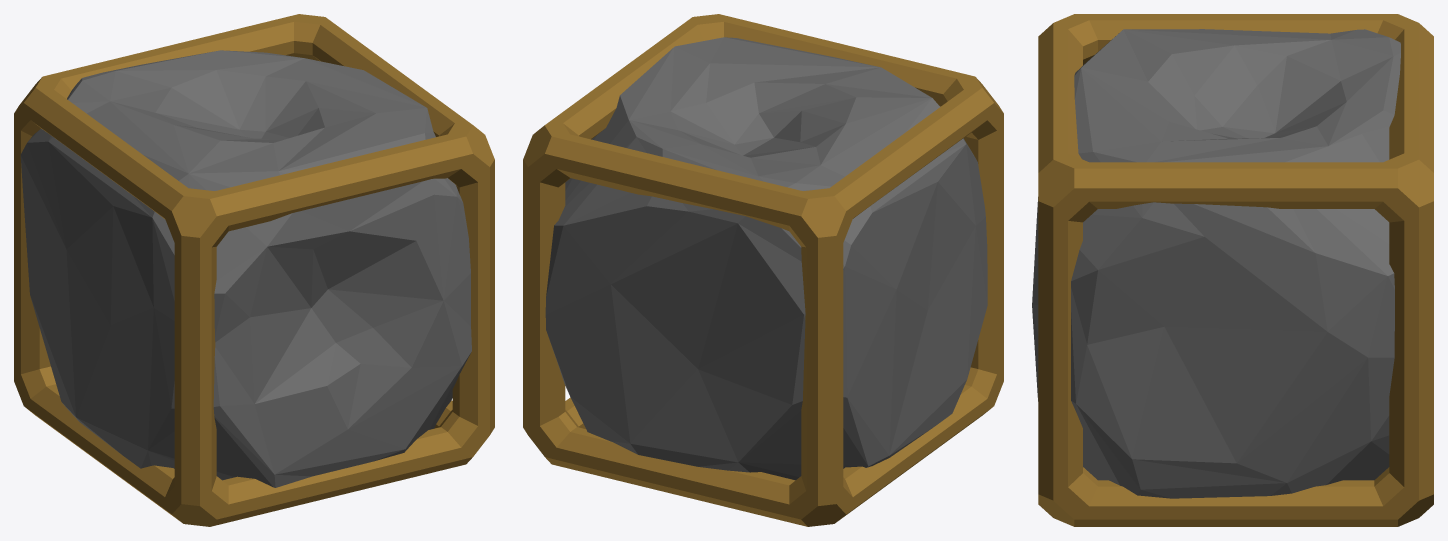
The model's file is block_rock_1_separate.fbx.
3 views of the same model, side by side, from view 1: azimuth 30°, elevation 25°; view 2: azimuth 150°, elevation 25°; view 3: azimuth 270°, elevation 25° (orthographic). The views are drawn at different scales.
Visible parts, largest first — view 1: block_rock_1.001_separate, block_rock_1_separate; view 2: block_rock_1.001_separate, block_rock_1_separate; view 3: block_rock_1.001_separate, block_rock_1_separate.
Part boxes in pixels (x1=…): block_rock_1.001_separate: x1=20, y1=50, x2=471, y2=487; block_rock_1_separate: x1=14, y1=14, x2=494, y2=526; block_rock_1.001_separate: x1=545, y1=37, x2=987, y2=480; block_rock_1_separate: x1=523, y1=14, x2=1003, y2=526; block_rock_1.001_separate: x1=1032, y1=29, x2=1400, y2=498; block_rock_1_separate: x1=1038, y1=14, x2=1433, y2=526.
Size of the model in its own units: 208 by 202 by 203.
